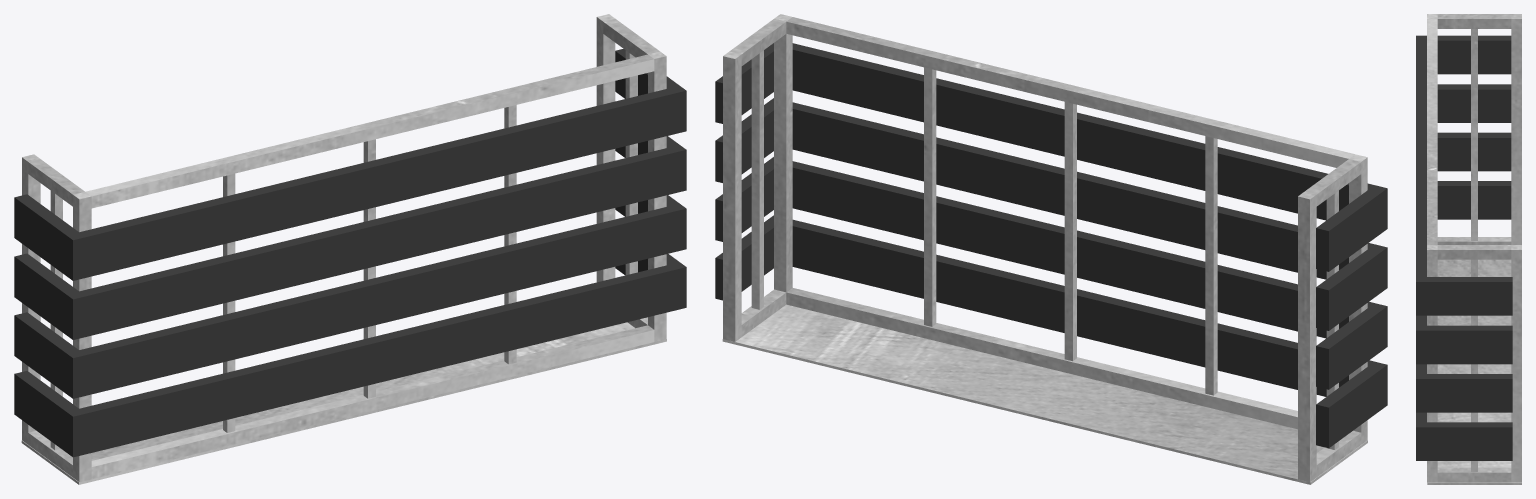
Rendered from Balcony_002.fbx.
3 views of the same model, side by side, from view 1: azimuth 30°, elevation 25°; view 2: azimuth 150°, elevation 25°; view 3: azimuth 270°, elevation 25° (orthographic). The views are drawn at different scales.
Visible parts, largest first — view 1: Balcony_002; view 2: Balcony_002; view 3: Balcony_002.
Boxes of the visible parts, <box> form: Balcony_002: <box>14,14,686,484</box>; Balcony_002: <box>715,14,1387,484</box>; Balcony_002: <box>1416,14,1521,484</box>.
Bounding box in the file's own units: 177 × 78.81 × 32.19.
2 materials, 1 textured.
